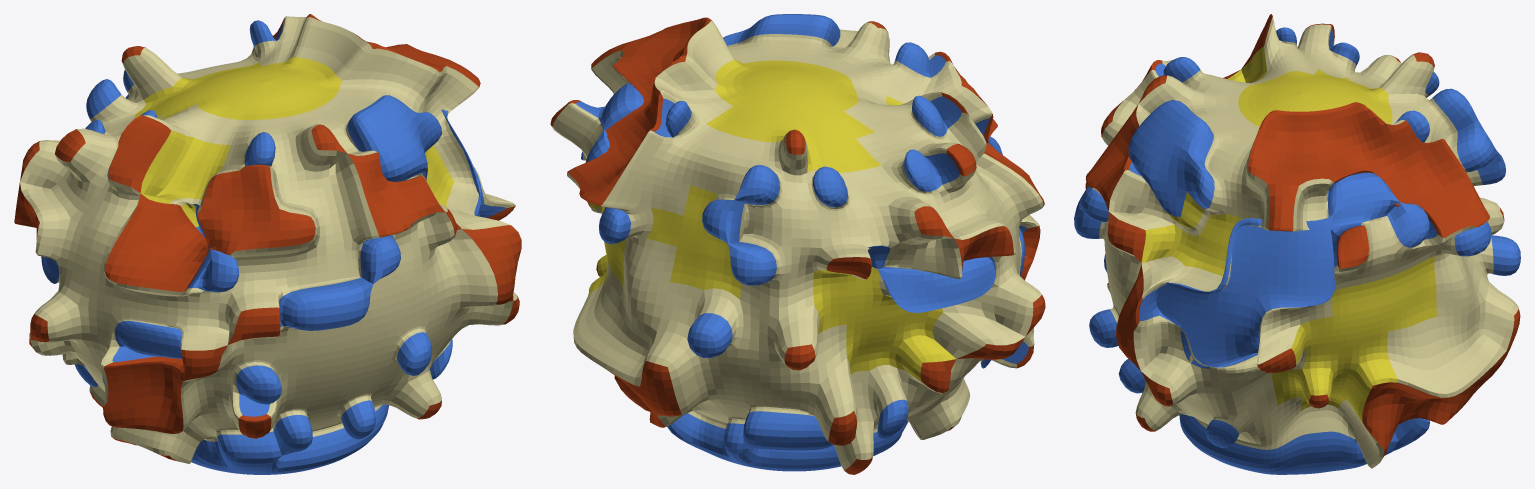
File: planet_margs_6.fbx
3 views of the same model, side by side, from view 1: azimuth 30°, elevation 25°; view 2: azimuth 150°, elevation 25°; view 3: azimuth 270°, elevation 25° (orthographic).
Visible parts, largest first — view 1: Sphere; view 2: Sphere; view 3: Sphere.
Part boxes in pixels (box(x1,y1,x2,y2)): Sphere: box(14, 14, 521, 474); Sphere: box(550, 14, 1045, 474); Sphere: box(1074, 14, 1520, 474).
Size of the model in its own units: 245 by 197 by 204.
